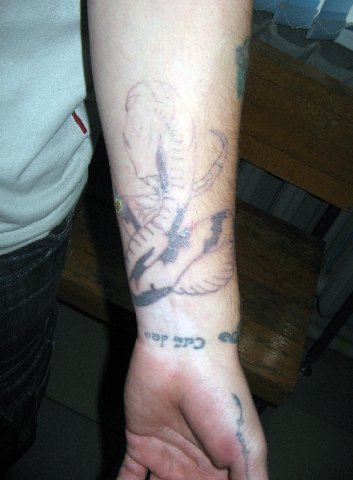tatu7_zmeya: (110, 66, 237, 298)
